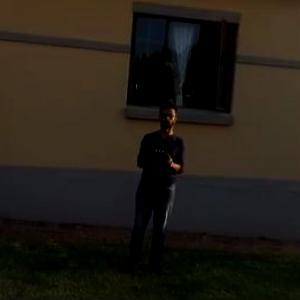follow: (121, 96, 188, 283)
